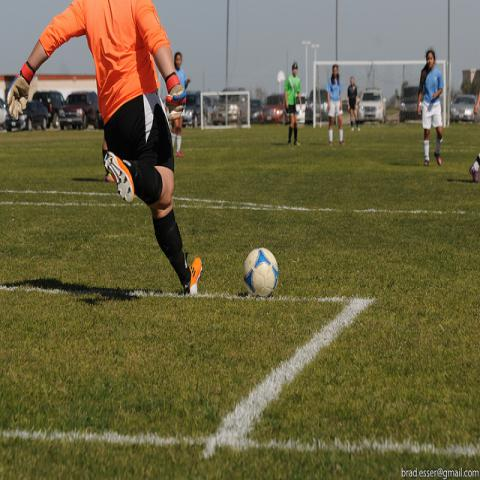car: (3, 100, 50, 134), (59, 92, 99, 129), (32, 91, 66, 129), (396, 86, 422, 124), (358, 89, 386, 124), (186, 92, 214, 125), (262, 89, 286, 124), (450, 94, 477, 124), (307, 89, 329, 122), (182, 104, 201, 128), (249, 99, 263, 125), (296, 94, 306, 124), (213, 102, 226, 125)
